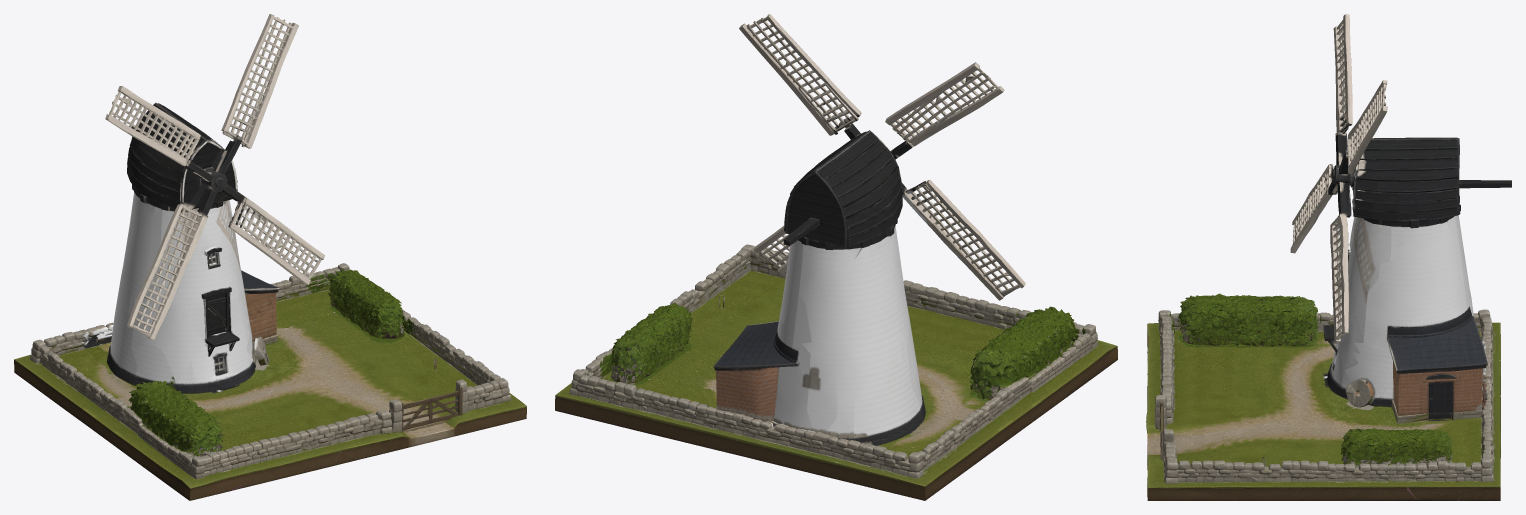
Rendered from building_windmill.glb.
3 views of the same model, side by side, from view 1: azimuth 30°, elevation 25°; view 2: azimuth 150°, elevation 25°; view 3: azimuth 270°, elevation 25° (orthographic). The views are drawn at different scales.
Visible parts, largest first — view 1: output_unwrapped; view 2: output_unwrapped; view 3: output_unwrapped.
Part boxes in pixels (x1=…): output_unwrapped: x1=14, y1=14, x2=526, y2=500; output_unwrapped: x1=555, y1=14, x2=1117, y2=500; output_unwrapped: x1=1146, y1=14, x2=1511, y2=500.
Size of the model in its own units: 2 by 1.99 by 1.87.
Materials: 1 (1 with a texture image).
